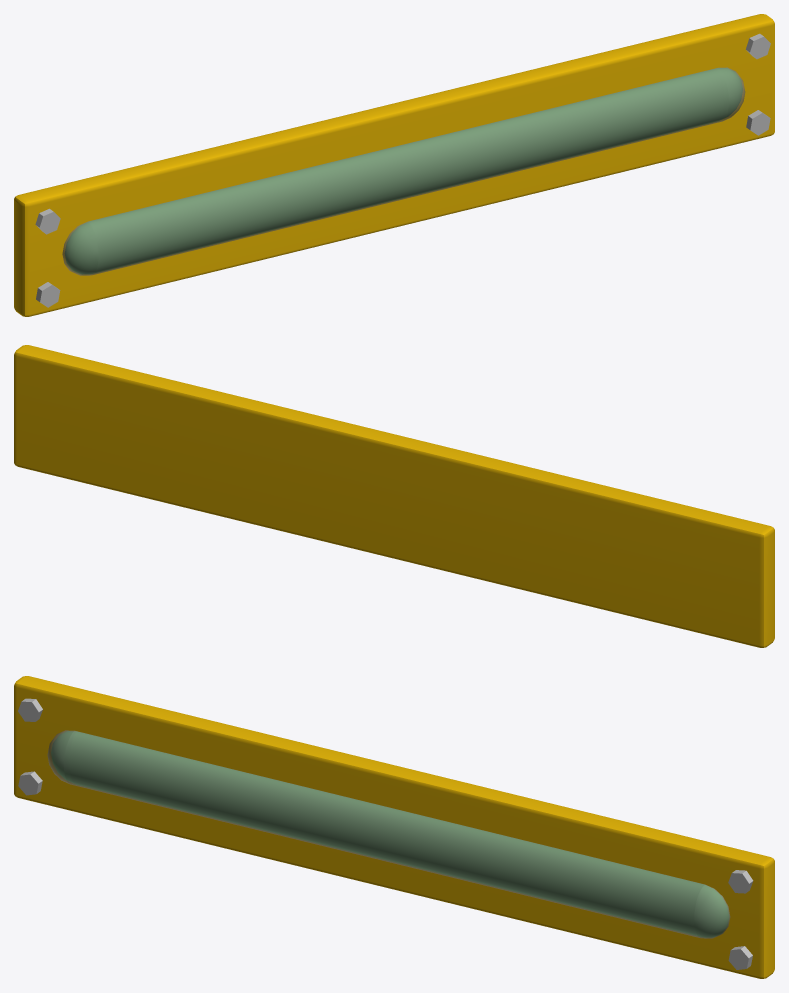
3 renders of one model, top to bottom at view 1: azimuth 30°, elevation 25°; view 2: azimuth 150°, elevation 25°; view 3: azimuth 330°, elevation 25°, orthographic.
Visible parts, largest first — view 1: Kanister_ram, Kanister_energija5, Kanister_energija4, Kanister_energija1, Kanister_energija2, Kanister_energija3; view 2: Kanister_ram; view 3: Kanister_ram, Kanister_energija5, Kanister_energija4, Kanister_energija1, Kanister_energija2, Kanister_energija3.
Part boxes in pixels (left/top/right/bottom): Kanister_ram: left=14, top=14, right=774, bottom=316; Kanister_energija5: left=173, top=68, right=742, bottom=253; Kanister_energija4: left=145, top=101, right=592, bottom=260; Kanister_energija1: left=65, top=196, right=201, bottom=274; Kanister_energija2: left=98, top=169, right=311, bottom=269; Kanister_energija3: left=98, top=135, right=451, bottom=263; Kanister_ram: left=14, top=345, right=774, bottom=647; Kanister_ram: left=14, top=676, right=774, bottom=978; Kanister_energija5: left=153, top=770, right=728, bottom=937; Kanister_energija4: left=91, top=758, right=572, bottom=903; Kanister_energija1: left=51, top=731, right=182, bottom=808; Kanister_energija2: left=74, top=737, right=289, bottom=834; Kanister_energija3: left=76, top=749, right=430, bottom=870.
Size of the model in its own units: 0.0554 by 0.00819 by 0.00302.
